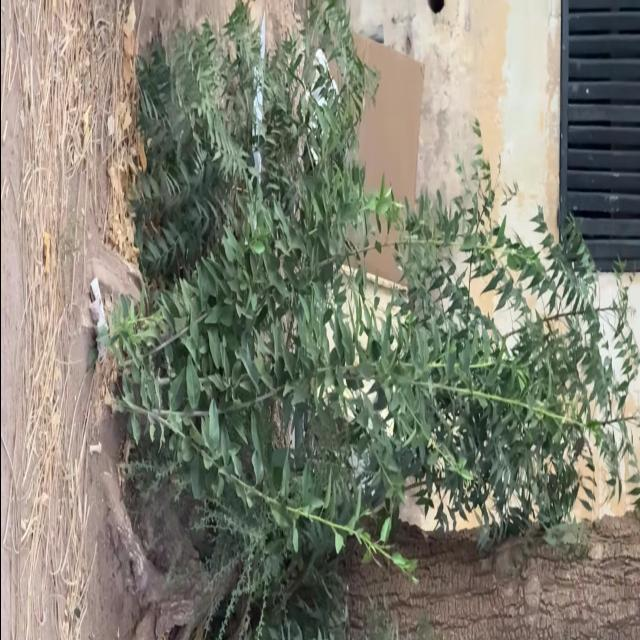Birds-Ibis: (282, 45, 342, 178)
